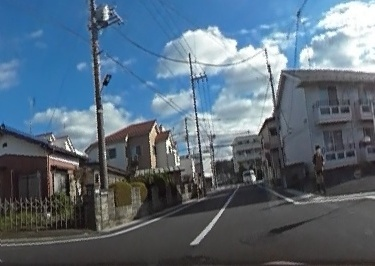person: (313, 142, 327, 191)
